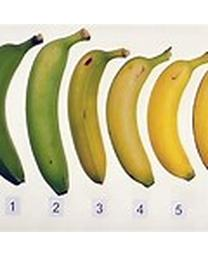banana: (0, 31, 207, 197)
